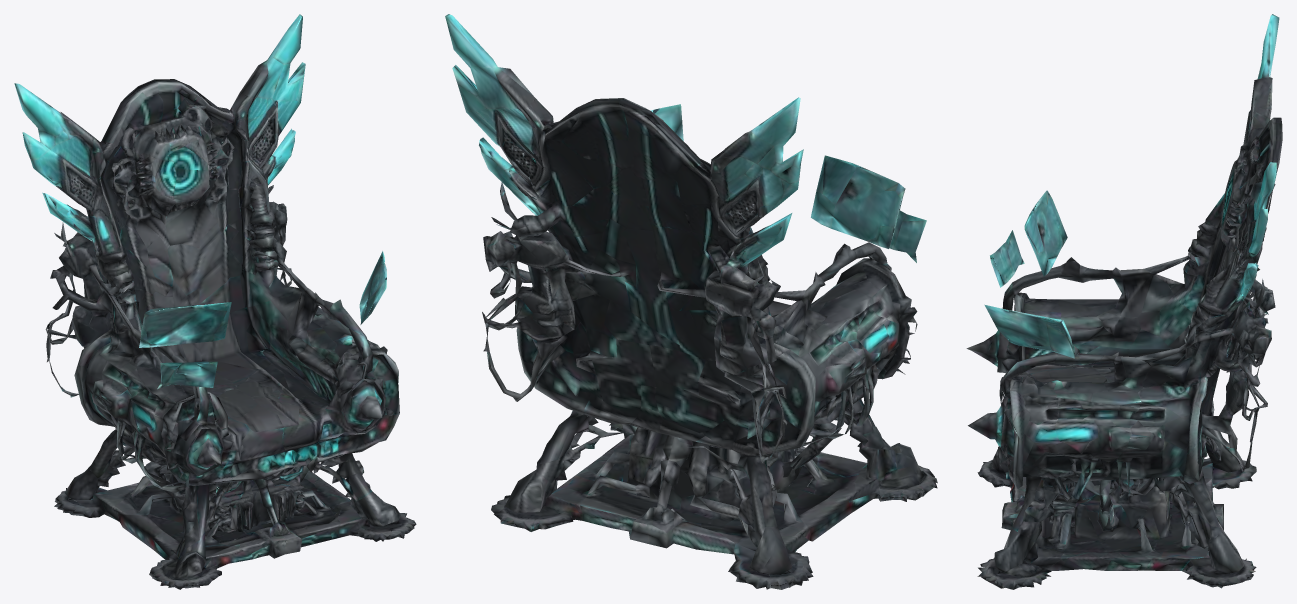
Rendered from cyberThrone.glb.
3 renders of one model, left to right at view 1: azimuth 30°, elevation 25°; view 2: azimuth 150°, elevation 25°; view 3: azimuth 270°, elevation 25°, orthographic. The views are drawn at different scales.
Bounding box in the file's own units: 1.37 × 1.89 × 1.25.
1 material, 1 textured.
